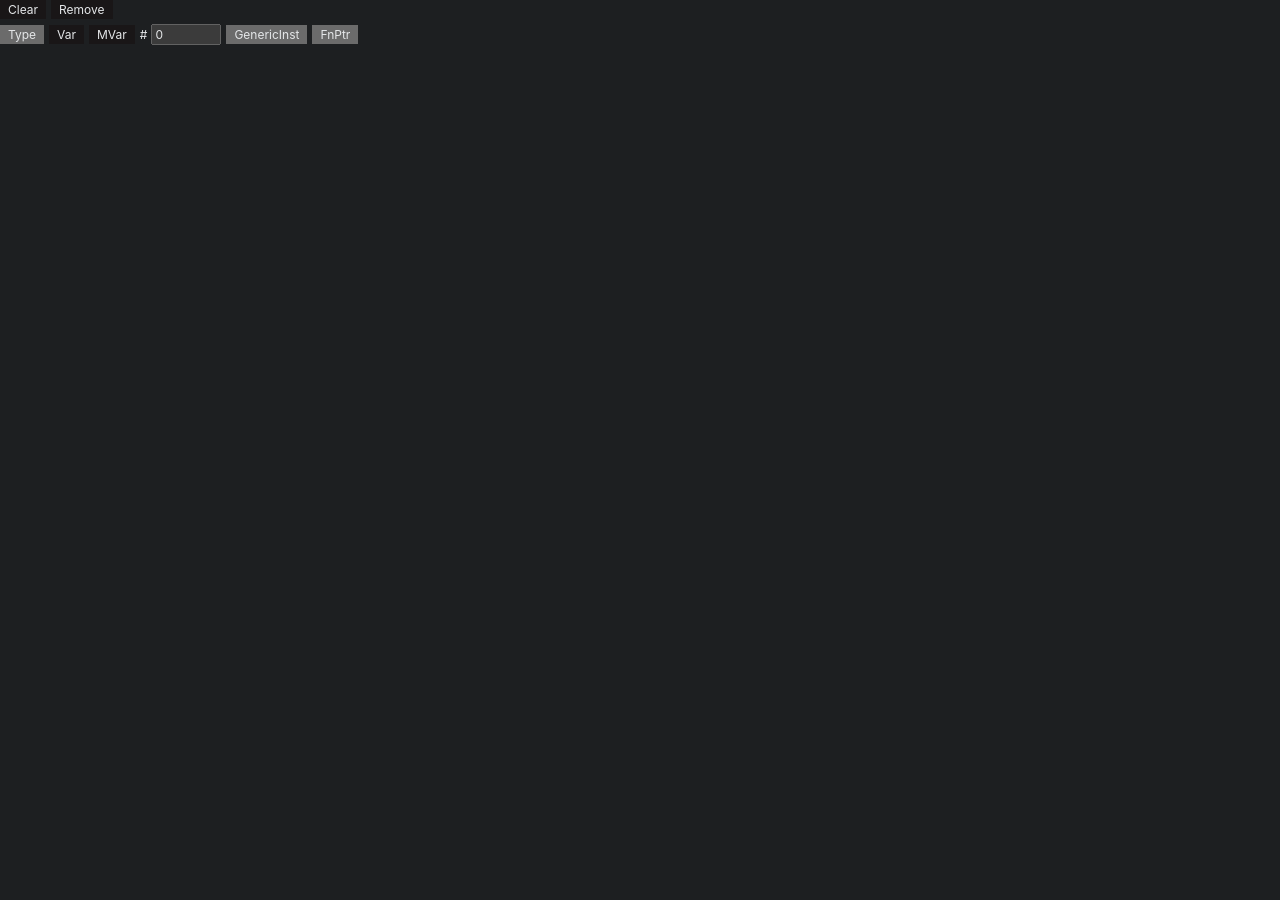
TypeSigEditor › reports a type that takes no arguments rather than opening slots for them
Click the button "GenericInst" at (267,34), box [226,25,307,44]
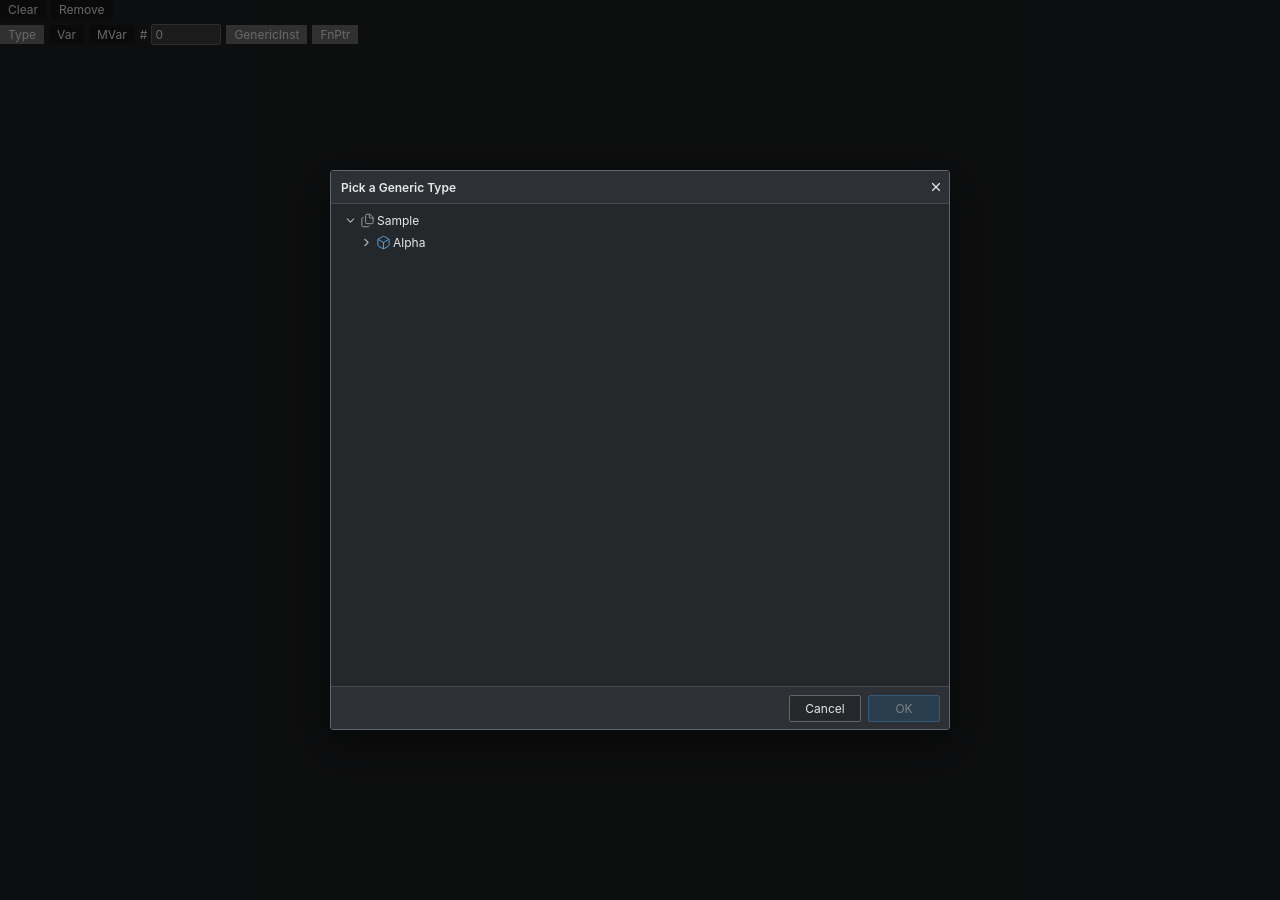
Result: the text "Sample" is shown at [377,212,419,228]
Click the button named "Expand" at (366,242), box [358,233,374,251]
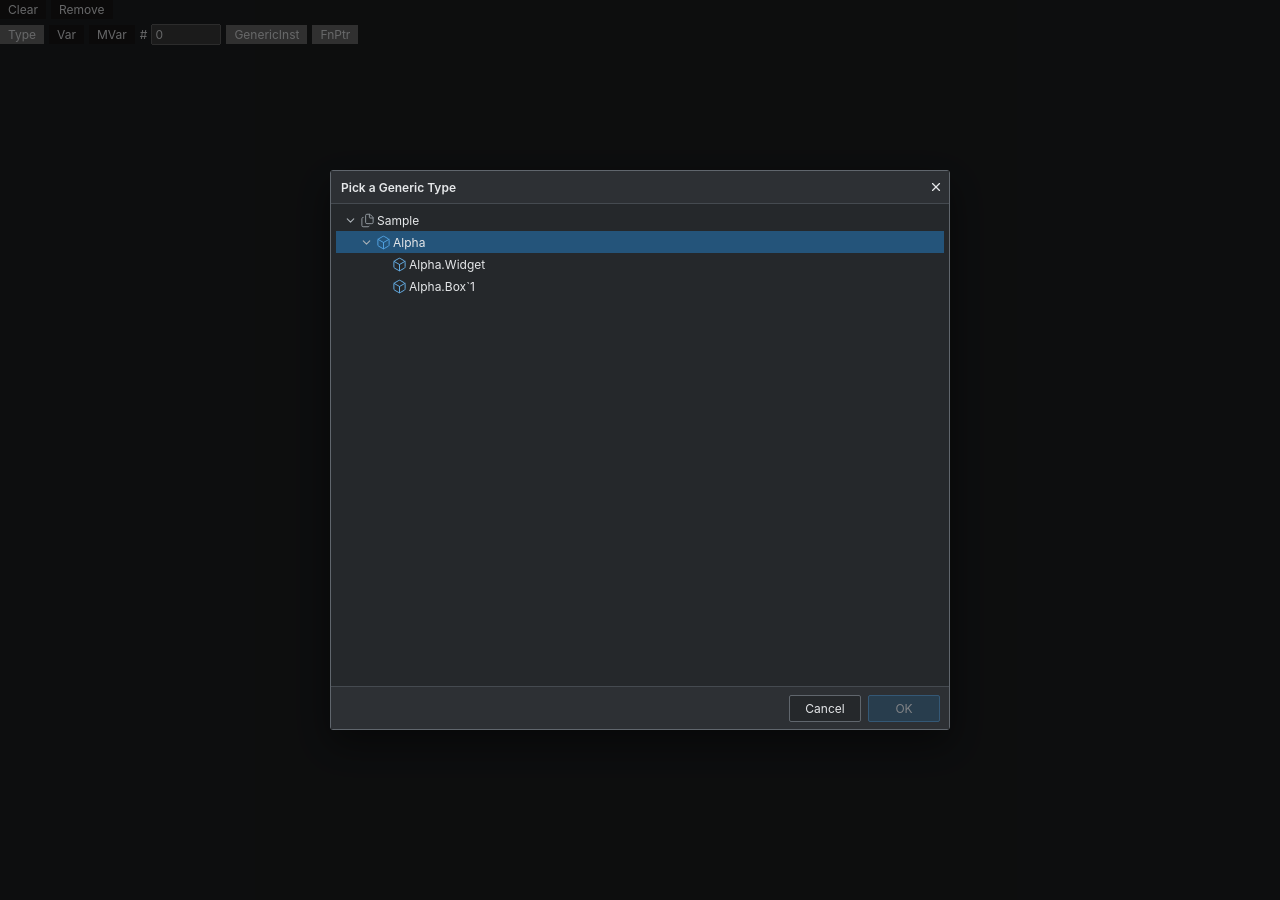
Click the text "Alpha.Widget" at (447,264), box [409,256,485,272]
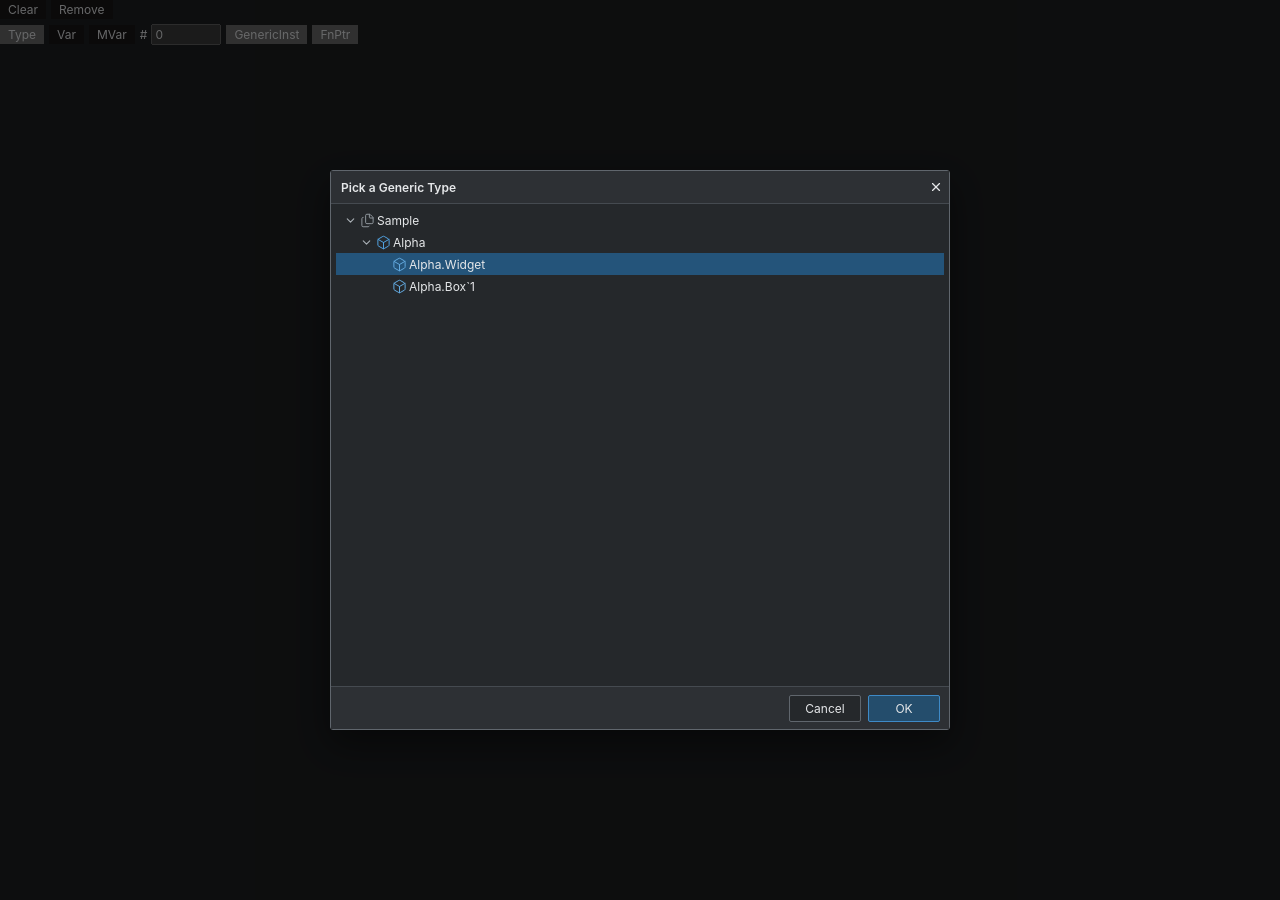
Click the button "OK" at (904,708), box [868,694,940,722]
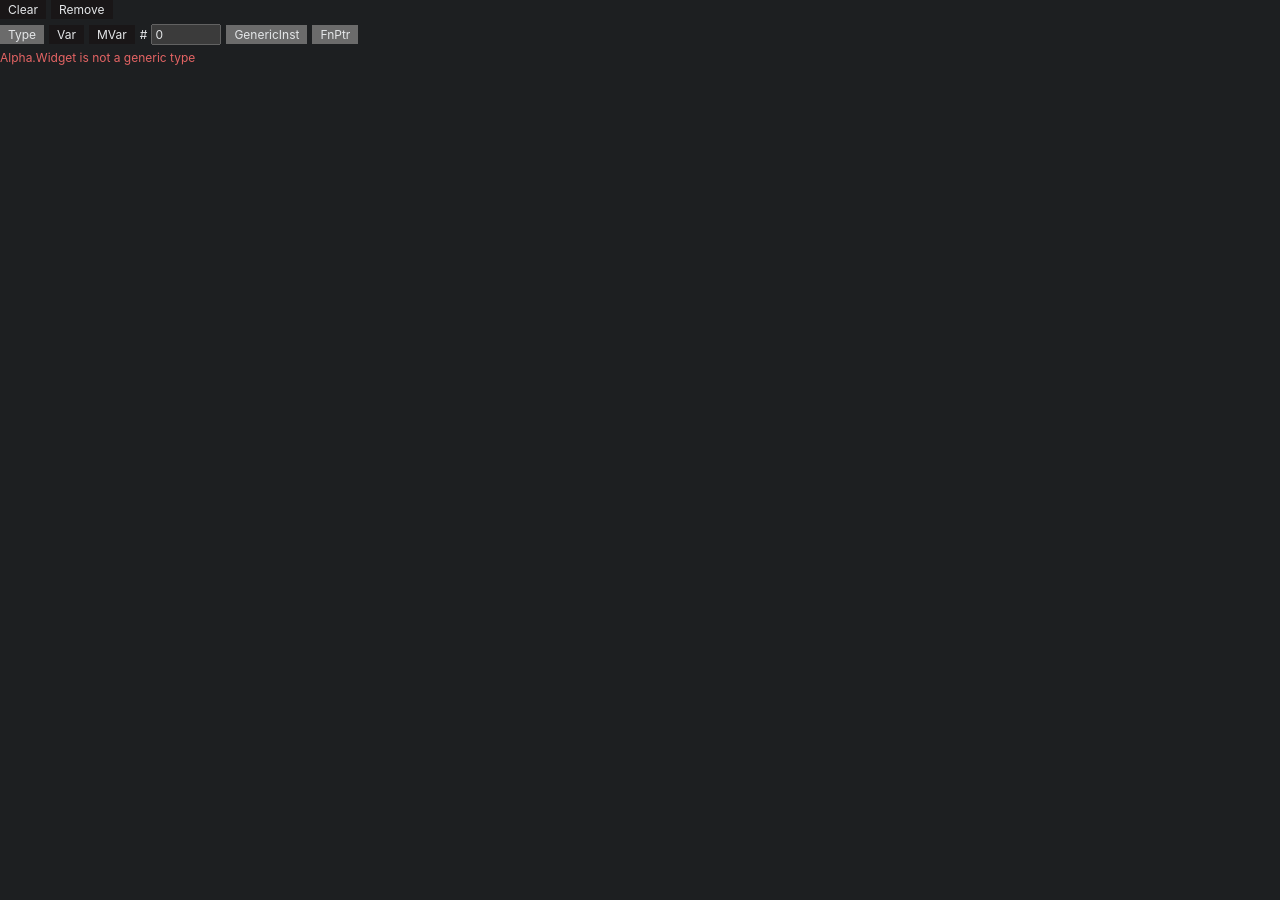
Expected: the button "Type" is shown, [0,25,44,44]
Result: the dialog is gone
Result: the text "Alpha.Widget is not a generic type" is shown at [0,50,195,65]
